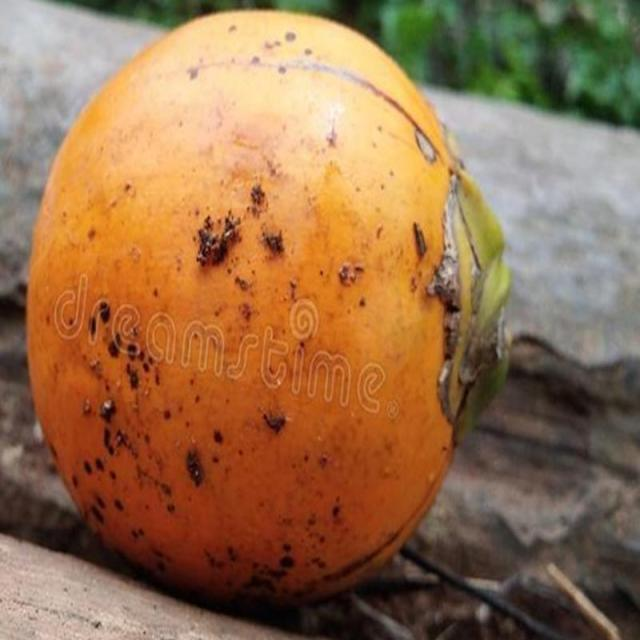good: (25, 11, 511, 619)
